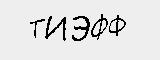И: (44, 14, 68, 45)
Т: (28, 16, 44, 39)
Ф: (90, 12, 110, 45), (108, 14, 128, 40)
Э: (70, 13, 92, 45)
